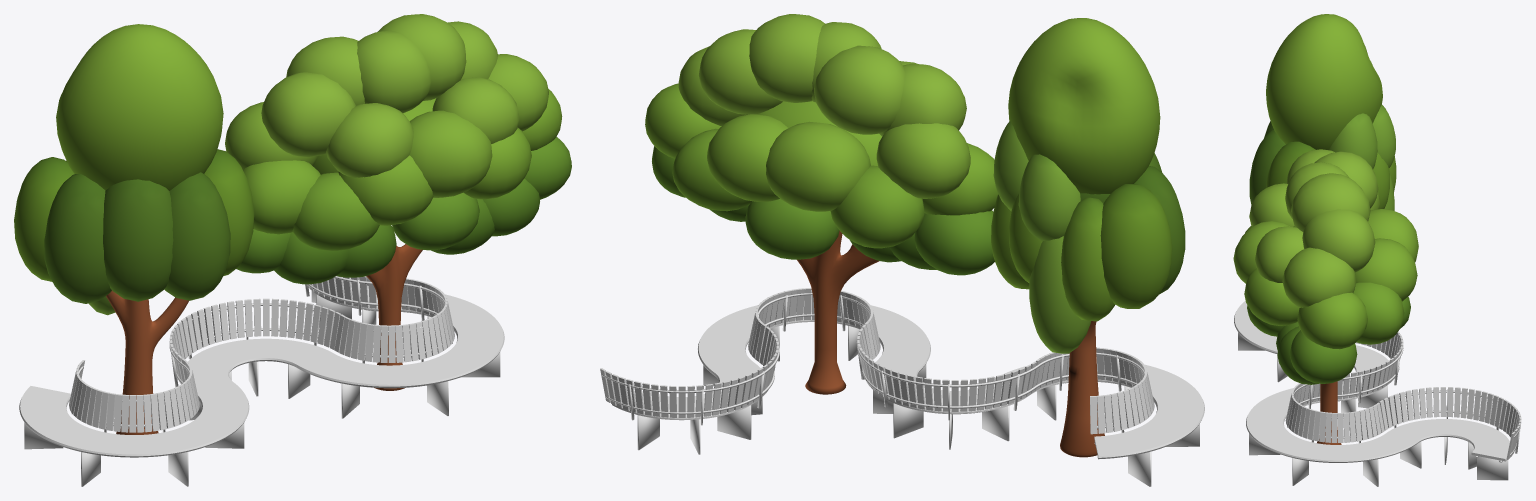
Rendered from banco 2.fbx.
3 views of the same model, side by side, from view 1: azimuth 30°, elevation 25°; view 2: azimuth 150°, elevation 25°; view 3: azimuth 270°, elevation 25° (orthographic). The views are drawn at different scales.
Visible parts, largest first — view 1: arvore 3, arvore 2, banco; view 2: arvore 3, arvore 2, banco; view 3: arvore 3, banco, arvore 2.
Part boxes in pixels (x1,y1,x2,y2): arvore 3: (225,14,571,390); arvore 2: (14,24,254,434); banco: (19,276,504,486); arvore 3: (645,14,998,394); arvore 2: (991,18,1185,457); banco: (600,288,1204,486); arvore 3: (1233,149,1418,444); banco: (1234,301,1521,486); arvore 2: (1249,14,1396,210).
Bounding box in the file's own units: 626 × 475 × 369.
